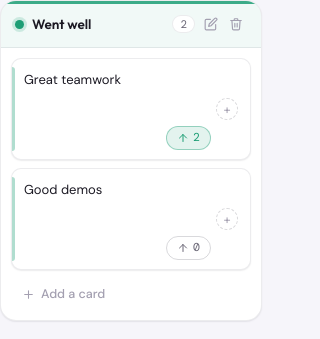
it: Column › shows confirm modal when delete column is clicked
Click the button titled "Delete column" at point(236, 24), box [225, 13, 247, 35]
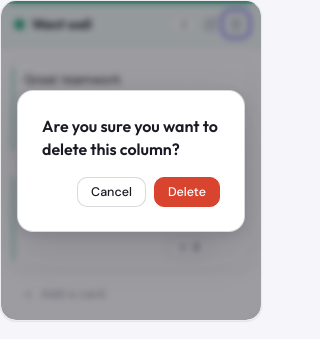
Expected: the text "Are you sure you want to delete this column?" is shown, [42, 114, 220, 161]
